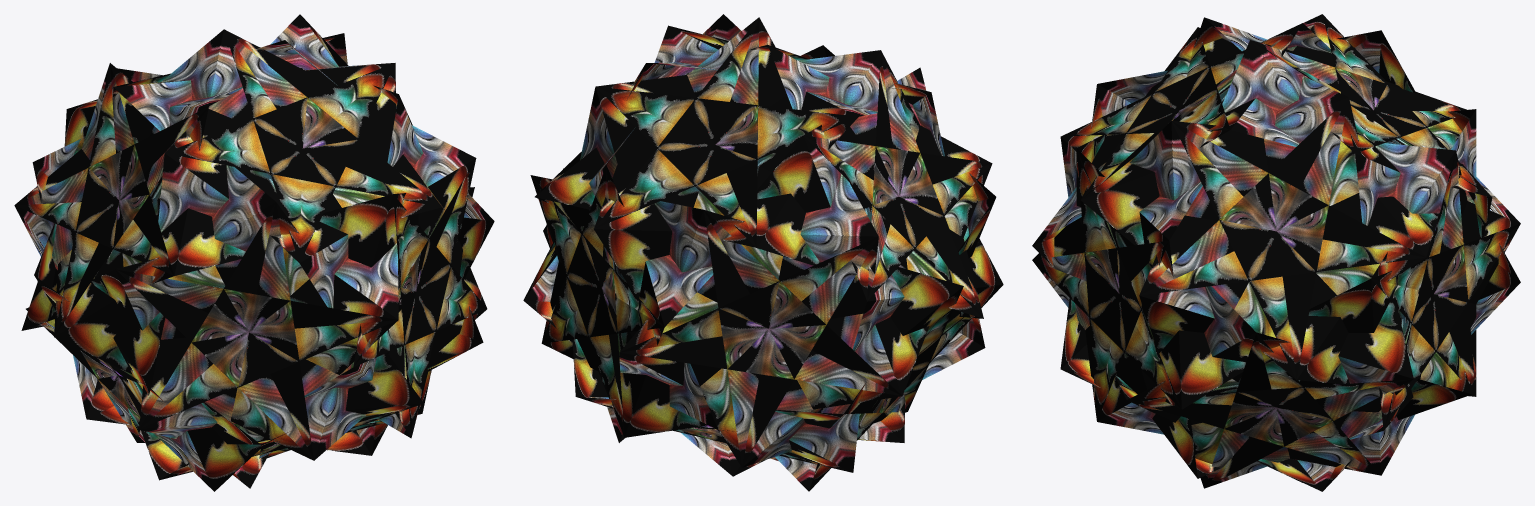
The model's file is InvertedSnubDodecadodecahedron12a.gltf.
The picture shows the model from 3 angles, left to right: view 1: azimuth 30°, elevation 25°; view 2: azimuth 150°, elevation 25°; view 3: azimuth 270°, elevation 25°; orthographic projection.
Visible parts, largest first — view 1: InvertedSnubDodecadodecahedron12a; view 2: InvertedSnubDodecadodecahedron12a; view 3: InvertedSnubDodecadodecahedron12a.
Boxes of the visible parts, <box> form: InvertedSnubDodecadodecahedron12a: <box>14,14,494,491</box>; InvertedSnubDodecadodecahedron12a: <box>523,14,1003,491</box>; InvertedSnubDodecadodecahedron12a: <box>1032,14,1520,491</box>.
Bounding box in the file's own units: 1.69 × 1.69 × 1.69.
Materials: 1 (1 with a texture image).
